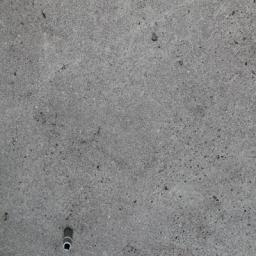FOD: (58, 224, 84, 256)
